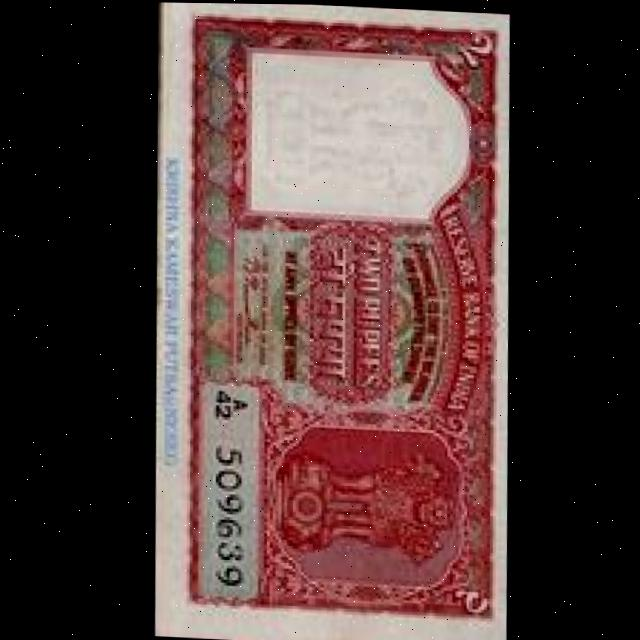banknote: (135, 2, 526, 640)
